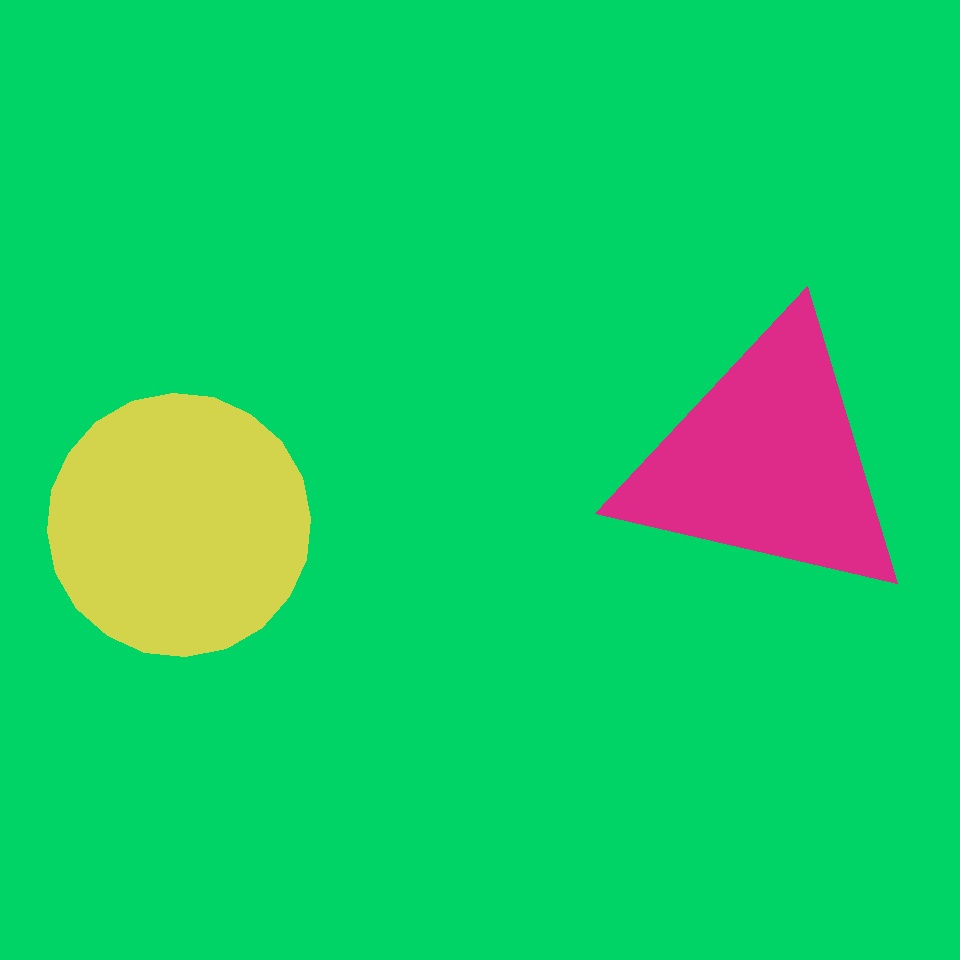circle: (616, 313, 918, 610)
triangle: (47, 394, 311, 656)
